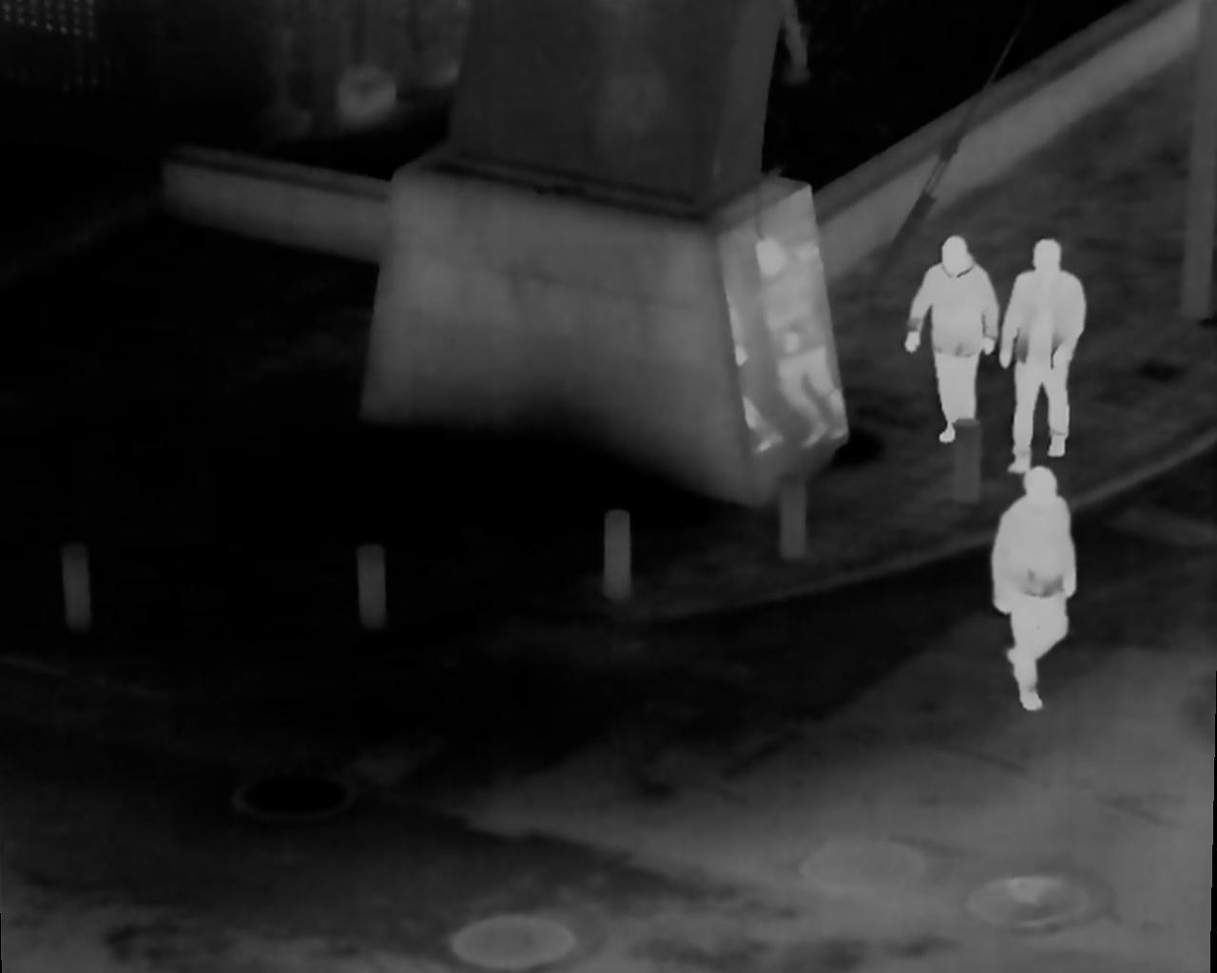person: (991, 465, 1080, 715), (907, 234, 995, 448), (1010, 234, 1085, 468)
